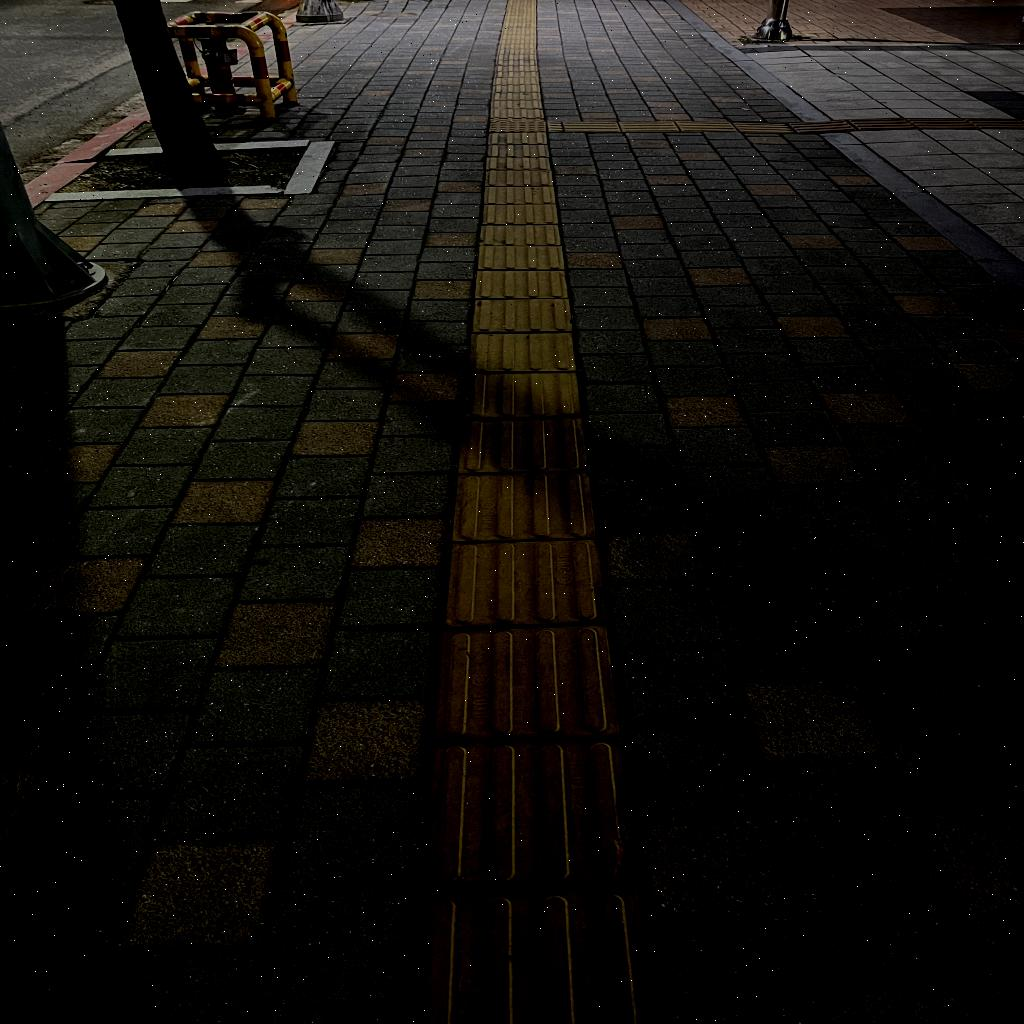Straight block broken: (423, 740, 638, 885)
Straight block normal: (434, 627, 619, 738), (443, 538, 606, 627), (453, 473, 594, 540), (458, 418, 587, 472), (463, 372, 581, 418), (469, 332, 576, 372), (473, 299, 572, 331)
